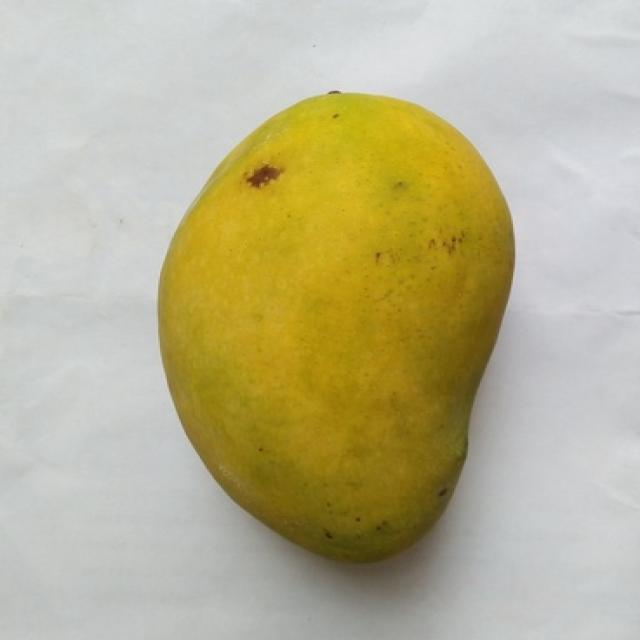Mango: (158, 93, 511, 560)
